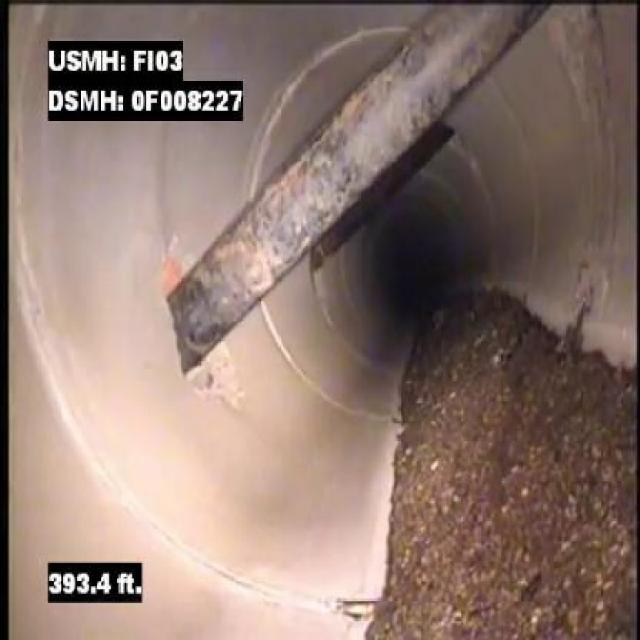Debris: (342, 334, 638, 623)
Utility intrusion: (396, 6, 552, 151), (276, 92, 392, 283), (166, 183, 271, 380)
